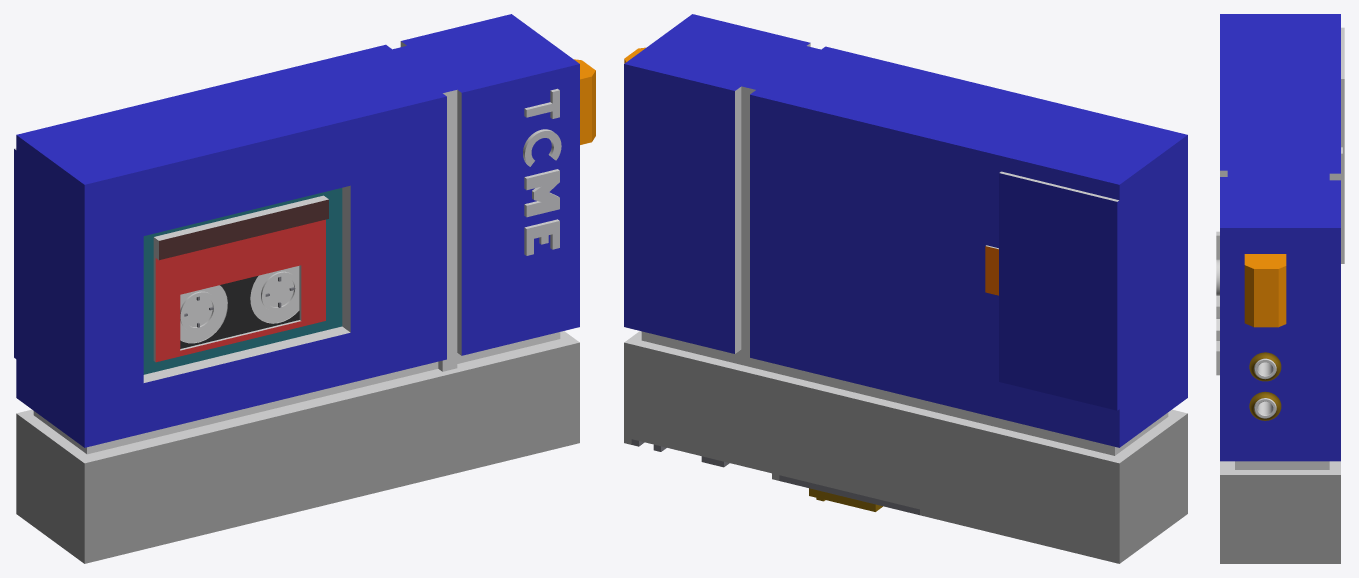
File: Recorder v1.fbx
The picture shows the model from 3 angles, left to right: view 1: azimuth 30°, elevation 25°; view 2: azimuth 150°, elevation 25°; view 3: azimuth 270°, elevation 25°; orthographic projection. The views are drawn at different scales.
Parts seen in each view (by area): view 1: Body14; view 2: Body14, Body9; view 3: Body14.
Part boxes in pixels (box(x1,y1,x2,y2)): Body14: box(14, 14, 595, 563); Body14: box(624, 14, 1187, 563); Body9: box(779, 475, 919, 515); Body14: box(1216, 14, 1344, 563).
Bounding box in the file's own units: 1822 × 1276 × 432.
